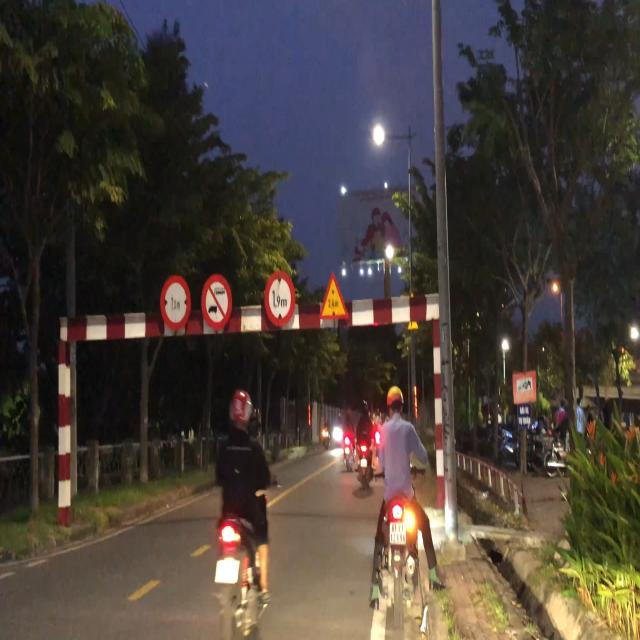Bien bao cam xe oto khach va xe oto tai: (199, 272, 240, 340)
Bien bao chieu cao tinh khong thuc te: (317, 271, 349, 322)
Bien bao han che chieu cao: (263, 266, 298, 332)
